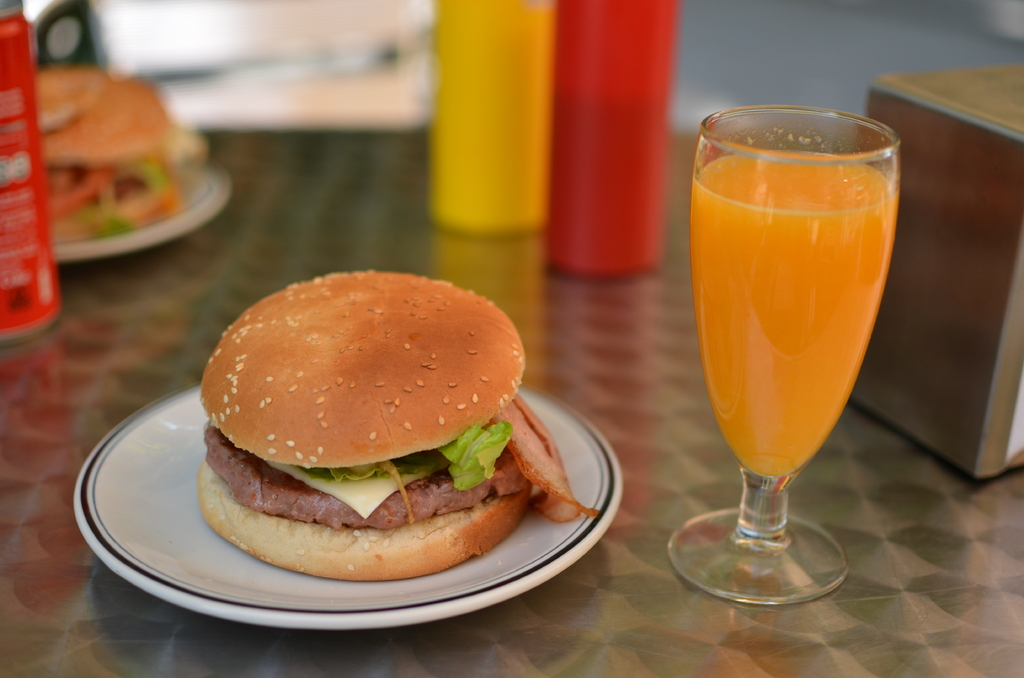Hamburger: (196, 270, 597, 582), (35, 65, 175, 234)
